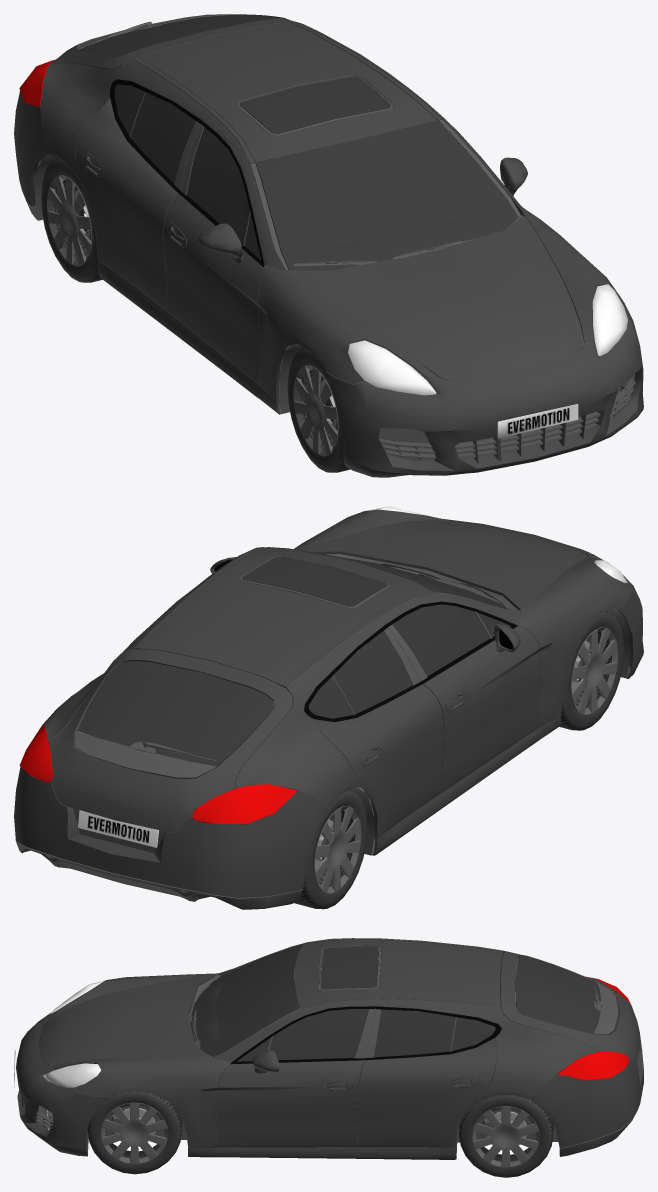
3 renders of one model, top to bottom at view 1: azimuth 30°, elevation 25°; view 2: azimuth 150°, elevation 25°; view 3: azimuth 270°, elevation 25°, orthographic. The views are drawn at different scales.
Visible parts, largest first — view 1: 轿车17; view 2: 轿车17; view 3: 轿车17.
Boxes of the visible parts, <box> form: 轿车17: <box>14,14,643,477</box>; 轿车17: <box>14,506,643,909</box>; 轿车17: <box>14,938,643,1177</box>.
Size of the model in its own units: 2.12 by 1.44 by 4.98.
Materials: 19 (3 with a texture image).
